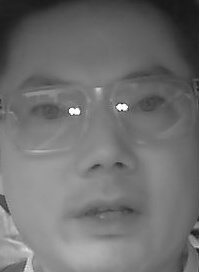glass: (114, 76, 199, 143), (7, 85, 88, 154)
mouth: (66, 192, 137, 233)
